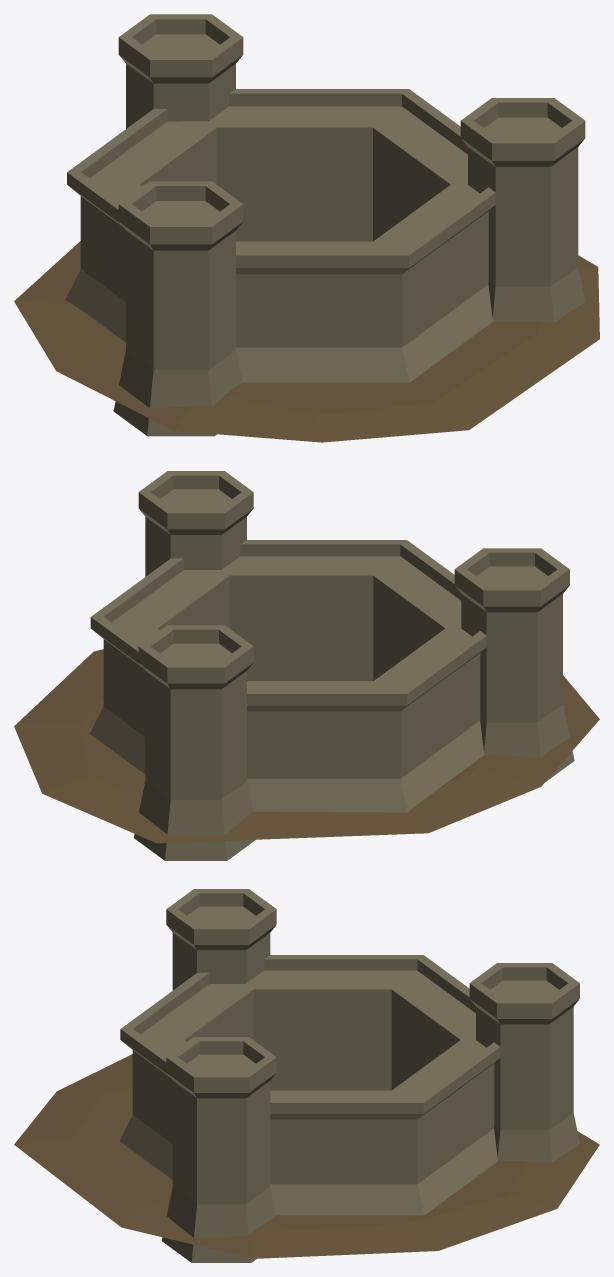
Rendered from castle.glb.
3 renders of one model, top to bottom at view 1: azimuth 30°, elevation 25°; view 2: azimuth 150°, elevation 25°; view 3: azimuth 270°, elevation 25°, orthographic. The views are drawn at different scales.
Visible parts, largest first — view 1: Castle, Castle_Ground, Tower, Tower.001, Tower.002; view 2: Castle, Castle_Ground, Tower.002, Tower, Tower.001; view 3: Castle, Castle_Ground, Tower.001, Tower.002, Tower.
Boxes of the visible parts, bbox=[...] form: Castle: bbox=[65, 89, 495, 382]; Castle_Ground: bbox=[14, 241, 599, 442]; Tower: bbox=[113, 181, 243, 436]; Tower.001: bbox=[460, 98, 585, 322]; Tower.002: bbox=[118, 14, 243, 128]; Castle: bbox=[90, 540, 486, 812]; Castle_Ground: bbox=[14, 649, 599, 843]; Tower.002: bbox=[134, 625, 255, 860]; Tower: bbox=[454, 548, 574, 782]; Tower.001: bbox=[138, 471, 253, 576]; Castle: bbox=[119, 955, 500, 1215]; Castle_Ground: bbox=[14, 1054, 599, 1258]; Tower.001: bbox=[161, 1037, 276, 1262]; Tower.002: bbox=[469, 963, 579, 1162]; Tower: bbox=[166, 889, 276, 990].
Size of the model in its own units: 1.59 by 0.6414 by 1.77.
